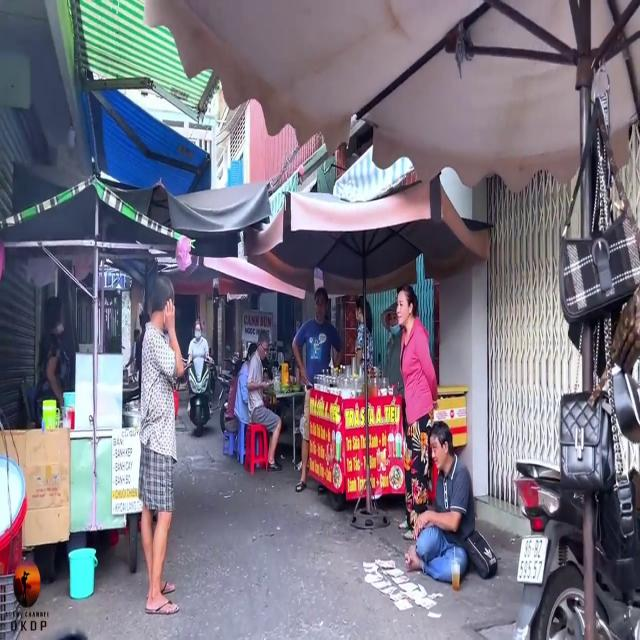bien_trang: (516, 528, 551, 584)
